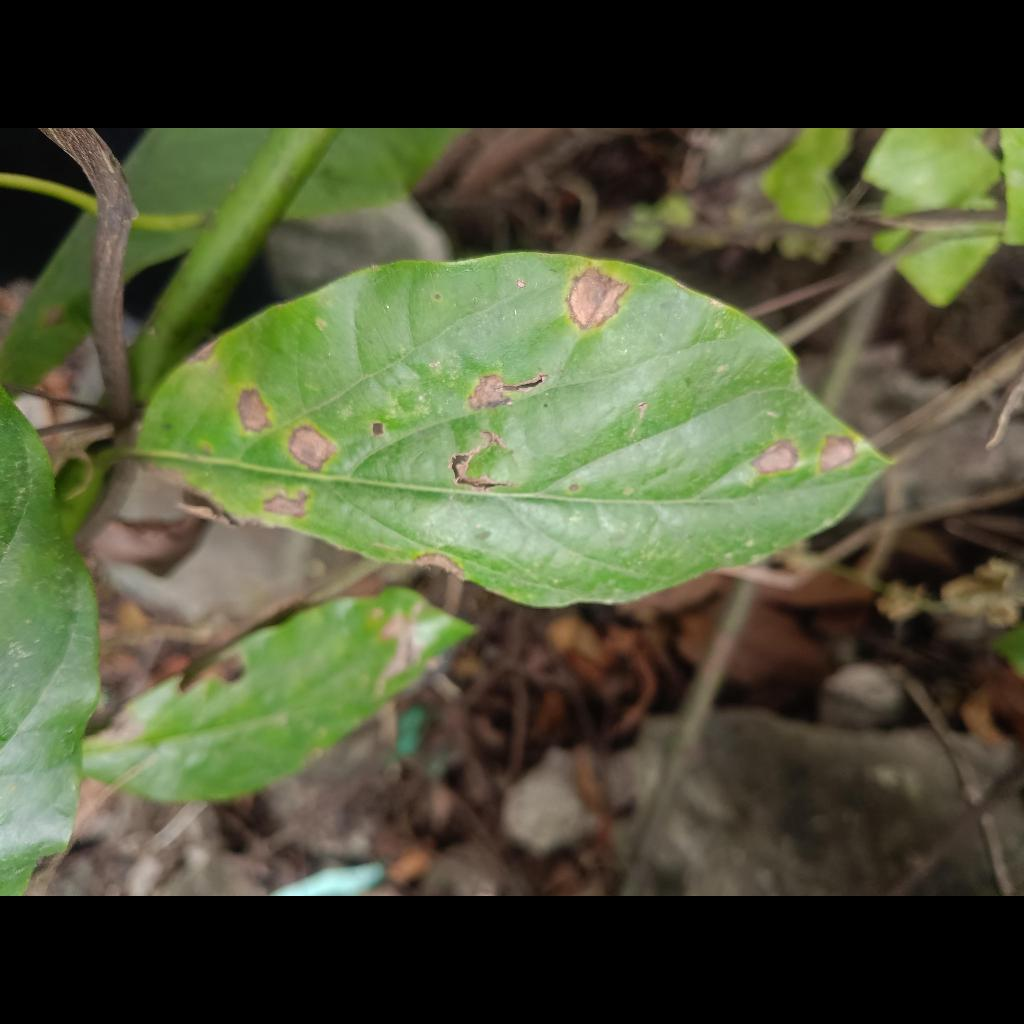Pest Infested: (138, 253, 887, 607)
